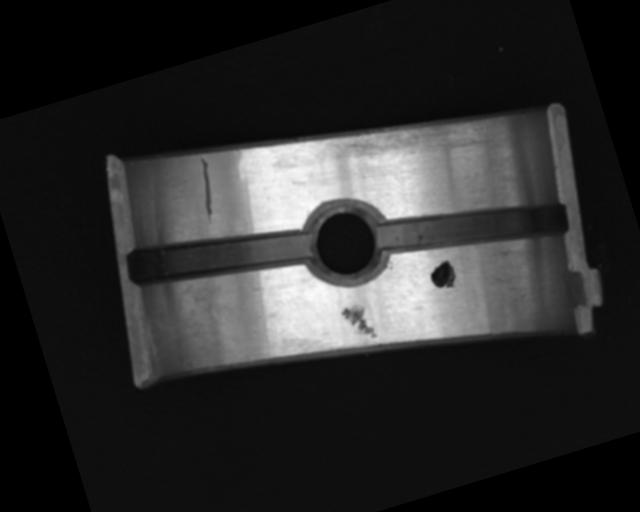blot: (426, 258, 459, 293)
bruise: (340, 300, 379, 346)
gap: (375, 169, 571, 284), (126, 199, 317, 310)
hole: (293, 191, 397, 294)
nick: (188, 154, 225, 226)
scratch: (316, 89, 497, 191)
